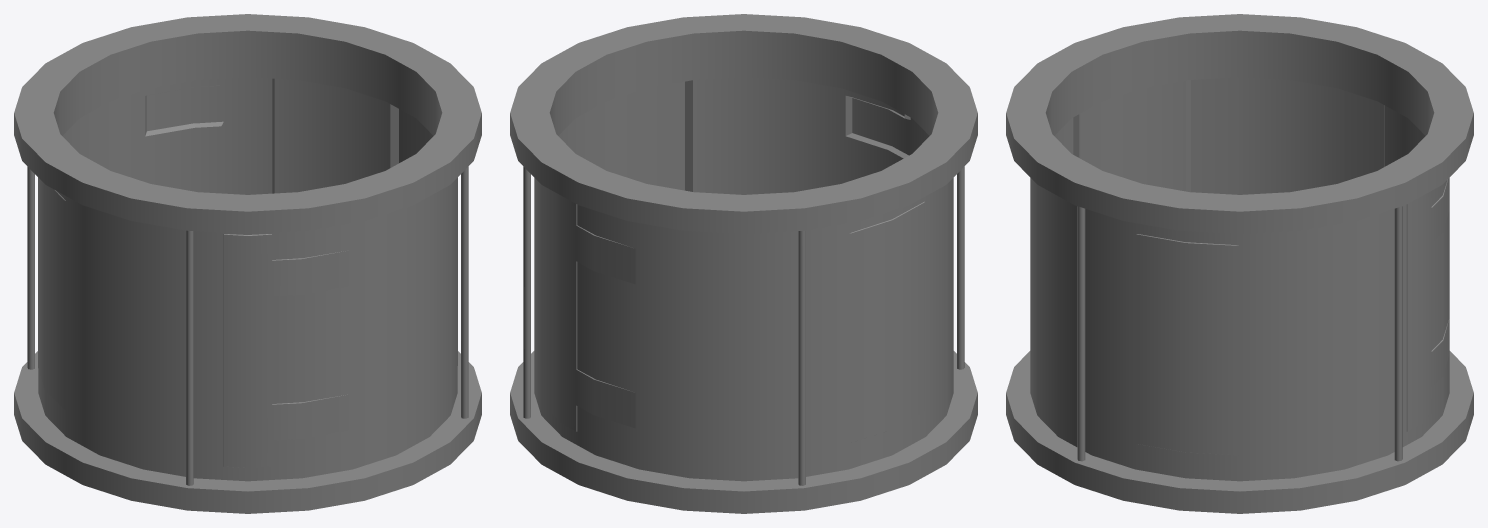
The model's file is DeltaK_LongTank.dae.
3 views of the same model, side by side, from view 1: azimuth 30°, elevation 25°; view 2: azimuth 150°, elevation 25°; view 3: azimuth 270°, elevation 25° (orthographic).
Parts seen in each view (by area): view 1: DeltaK_LongTank, Erib1, SquareRib2, pCylinder18_ncl1_1, pCylinder18, SquareRib, pCylinder18_ncl1_2, Erib3; view 2: DeltaK_LongTank, SquareRib2, Erib3, SquareRib, pCylinder18_ncl1_2, pCylinder18_ncl1_3, pCylinder18_ncl1_1, Erib1; view 3: DeltaK_LongTank, SquareRib, SquareRib2, Erib3, pCylinder18, pCylinder18_ncl1_3.
Part boxes in pixels (x1=…): DeltaK_LongTank: x1=14, y1=14, x2=481, y2=513; Erib1: x1=223, y1=234, x2=348, y2=467; SquareRib2: x1=38, y1=177, x2=65, y2=410; pCylinder18_ncl1_1: x1=186, y1=230, x2=193, y2=485; pCylinder18: x1=461, y1=166, x2=468, y2=418; SquareRib: x1=390, y1=104, x2=457, y2=365; pCylinder18_ncl1_2: x1=27, y1=166, x2=34, y2=369; Erib3: x1=145, y1=78, x2=274, y2=193; DeltaK_LongTank: x1=510, y1=14, x2=977, y2=513; SquareRib2: x1=849, y1=201, x2=925, y2=442; Erib3: x1=552, y1=191, x2=635, y2=431; SquareRib: x1=558, y1=80, x2=692, y2=191; pCylinder18_ncl1_2: x1=798, y1=230, x2=805, y2=485; pCylinder18_ncl1_3: x1=523, y1=166, x2=530, y2=418; pCylinder18_ncl1_1: x1=957, y1=166, x2=964, y2=369; Erib1: x1=845, y1=96, x2=910, y2=158; DeltaK_LongTank: x1=1006, y1=14, x2=1473, y2=513; SquareRib: x1=1135, y1=234, x2=1239, y2=455; SquareRib2: x1=1186, y1=77, x2=1384, y2=194; Erib3: x1=1406, y1=178, x2=1449, y2=431; pCylinder18: x1=1077, y1=206, x2=1085, y2=461; pCylinder18_ncl1_3: x1=1394, y1=206, x2=1402, y2=461.
Size of the model in its own units: 1.05 by 0.7453 by 1.05.
